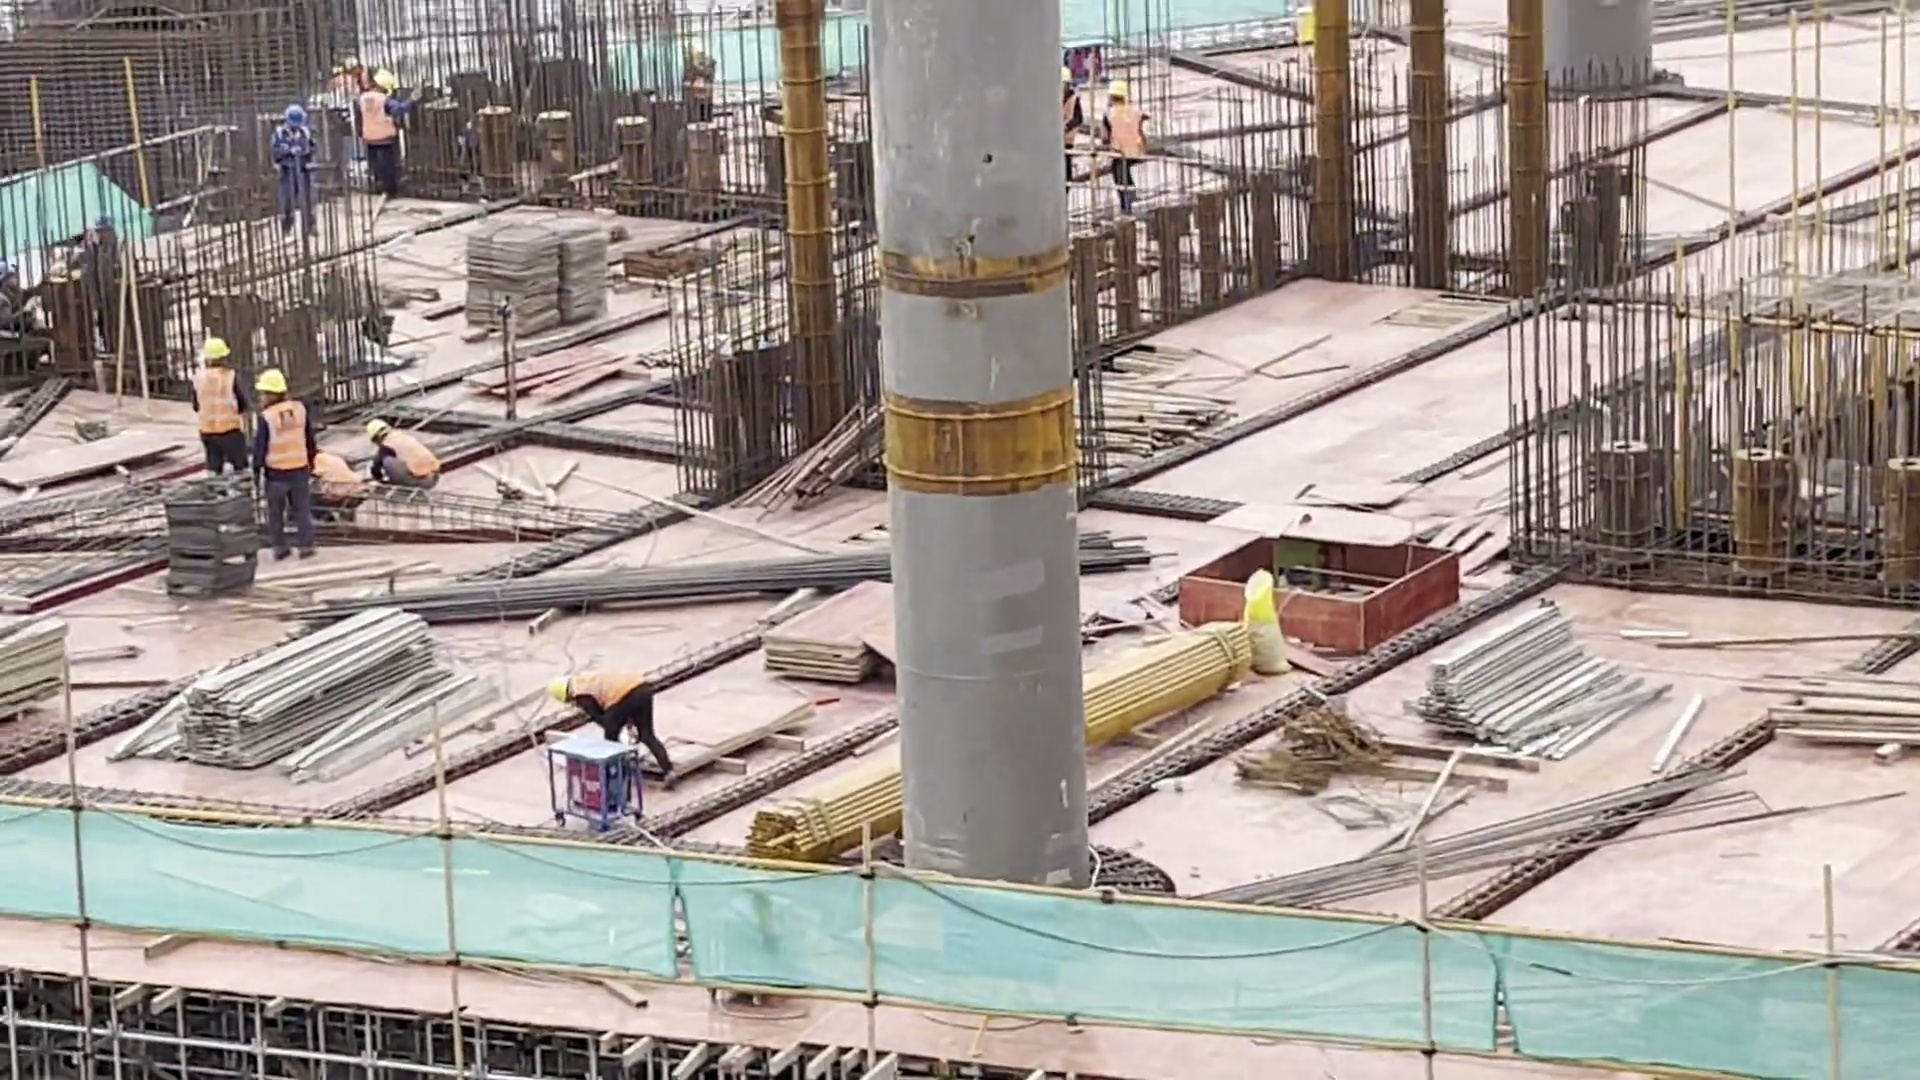helmet: (256, 367, 288, 394), (201, 336, 230, 362), (285, 106, 318, 127), (364, 417, 387, 440), (376, 69, 397, 87)
person: (558, 677, 678, 790), (253, 365, 320, 566), (1093, 70, 1153, 201), (262, 103, 315, 245), (188, 339, 246, 468), (355, 65, 404, 203), (362, 417, 442, 490), (315, 450, 367, 524), (1064, 57, 1084, 183)
vest: (191, 365, 244, 436), (263, 400, 311, 475), (357, 87, 401, 147), (570, 675, 648, 708), (387, 434, 444, 476), (273, 126, 317, 167), (316, 456, 363, 492)
